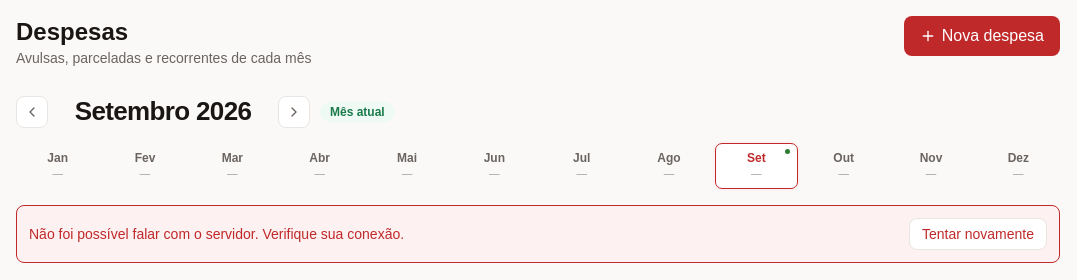
página de despesas: estado vazio e erro › em falha de rede mostra a mensagem offline, repete e mantém a sessão
Expected: the text "Não foi possível falar com o servidor. Verifique sua conexão." is shown, [29,226,404,242]
Click the button "Tentar novamente" at (978, 234), box [909,218,1047,250]
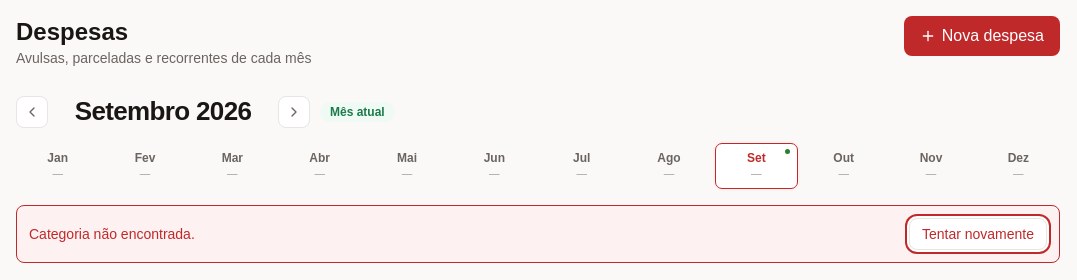
Expected: the text "Categoria não encontrada." is shown, [29,226,195,242]
